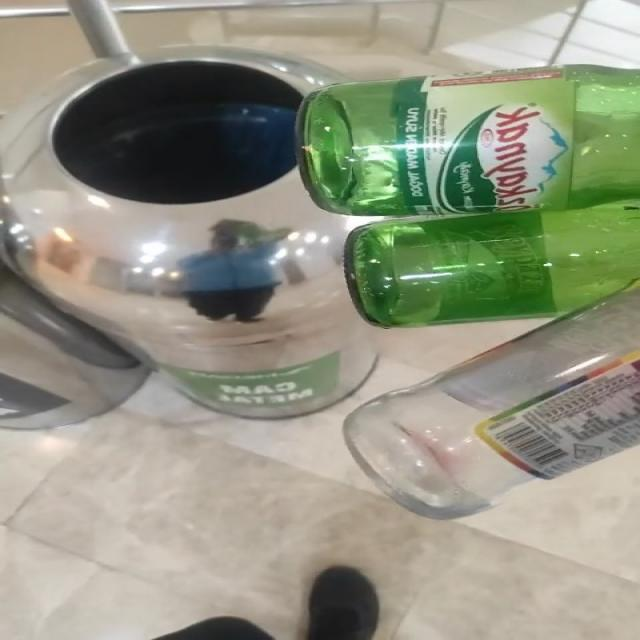Glass: (297, 64, 639, 519)
